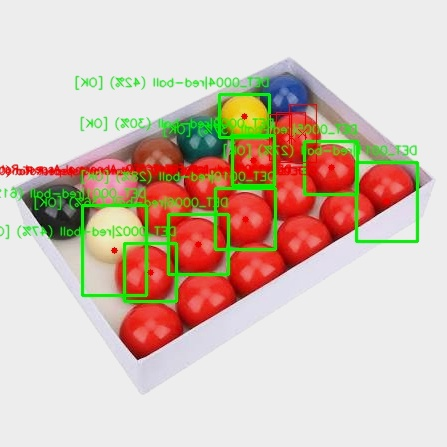black-ball: (29, 238, 73, 282)
blue-ball: (260, 76, 308, 124)
brown-ball: (88, 165, 136, 213)
green-ball: (187, 157, 235, 205)
pink-ball: (37, 179, 85, 227)
red-ball: (313, 141, 361, 189), (274, 165, 322, 213), (234, 245, 282, 293), (228, 197, 276, 245), (233, 128, 281, 176), (184, 115, 232, 163), (173, 223, 221, 271), (182, 274, 230, 322), (140, 178, 188, 226), (120, 253, 168, 301), (127, 296, 175, 344), (326, 192, 372, 238), (276, 116, 322, 162), (282, 213, 328, 259), (368, 159, 412, 203)
white-ball: (70, 247, 118, 295)
yellow-ball: (218, 82, 266, 130)
